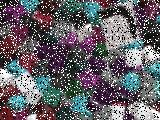Right: (99, 0, 141, 51)
